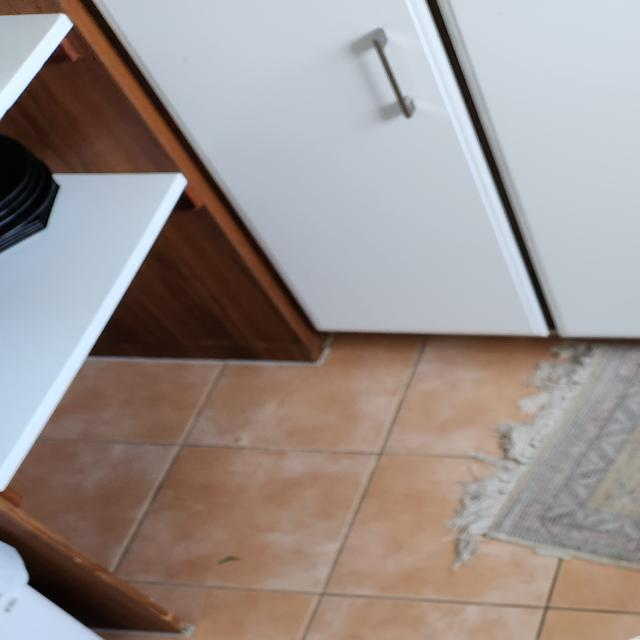rice: (522, 536, 640, 640)
